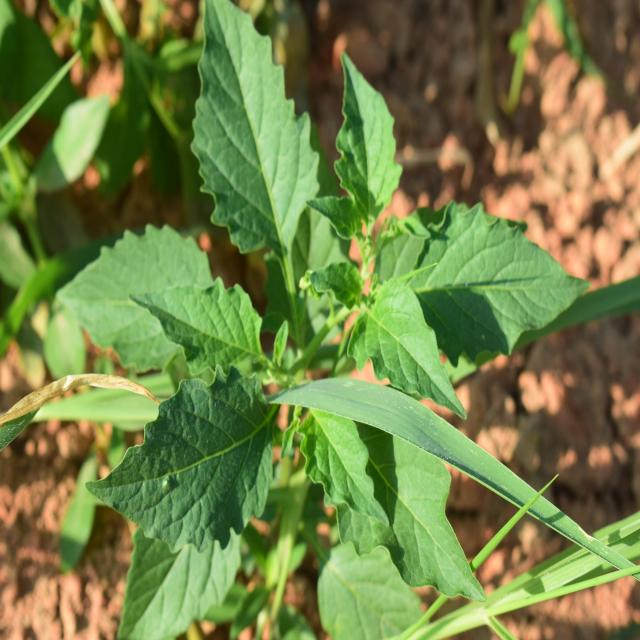Black_nightshade: (106, 34, 509, 606)
